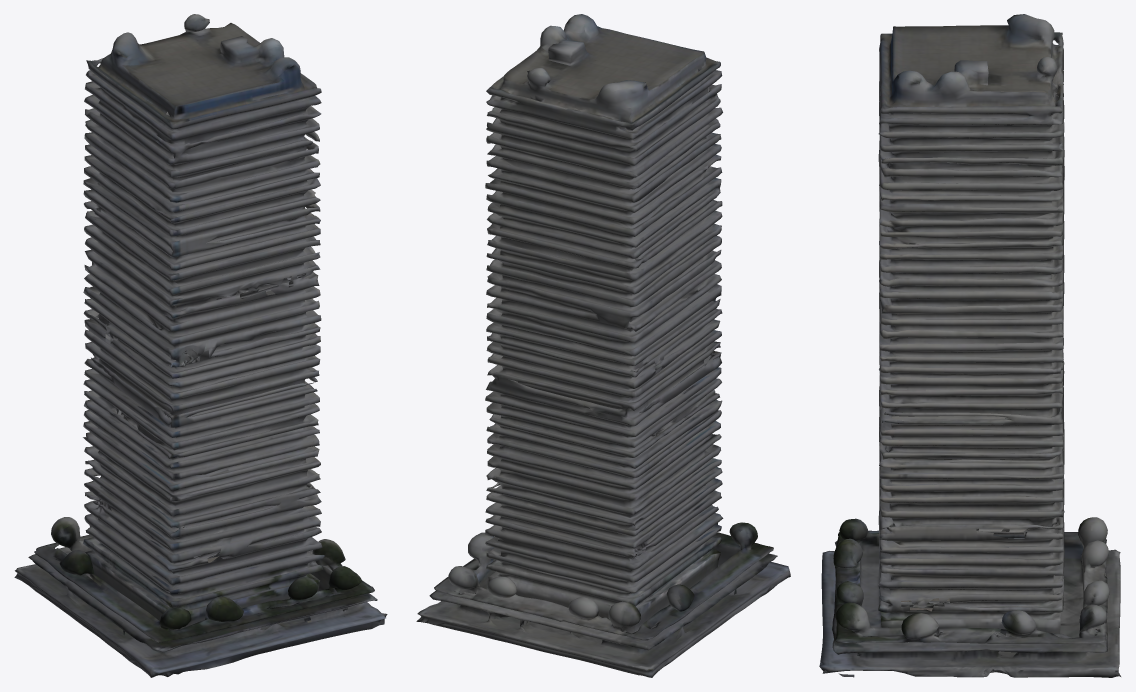
Rendered from building1.glb.
3 renders of one model, left to right at view 1: azimuth 30°, elevation 25°; view 2: azimuth 150°, elevation 25°; view 3: azimuth 270°, elevation 25°, orthographic. The views are drawn at different scales.
Size of the model in its own units: 0.8959 by 1.99 by 0.9471.
1 material, 1 textured.
